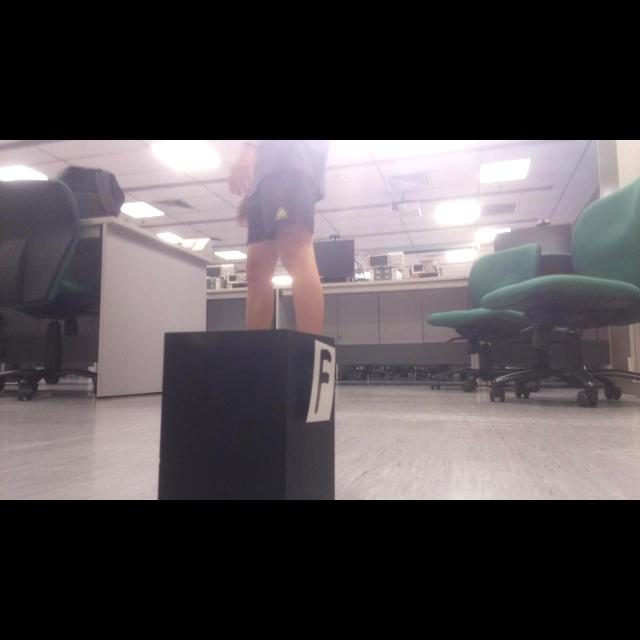F: (315, 349, 332, 414)
